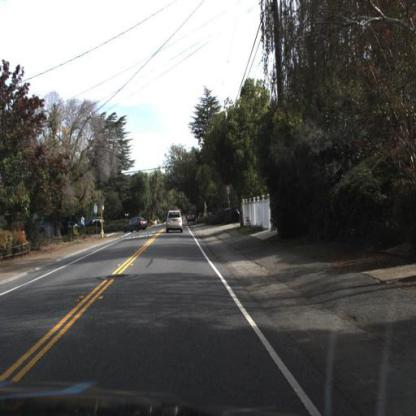car: (166, 209, 189, 238), (125, 214, 148, 234), (187, 212, 197, 225)
